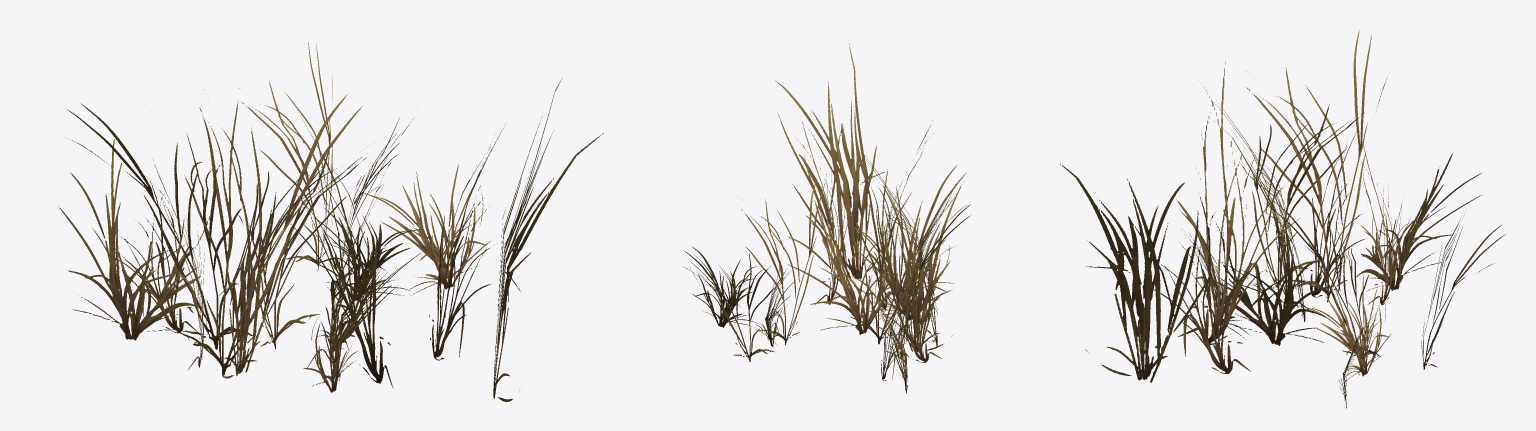
Rendered from grass_patch_1.glb.
3 renders of one model, left to right at view 1: azimuth 30°, elevation 25°; view 2: azimuth 150°, elevation 25°; view 3: azimuth 270°, elevation 25°, orthographic. The views are drawn at different scales.
Parts seen in each view (by area): view 1: grasspatch2_grass1_0; view 2: grasspatch2_grass1_0; view 3: grasspatch2_grass1_0.
Part boxes in pixels (bbox=[...]): grasspatch2_grass1_0: bbox=[58, 41, 603, 401]; grasspatch2_grass1_0: bbox=[684, 43, 970, 393]; grasspatch2_grass1_0: bbox=[1060, 30, 1505, 408].
Bounding box in the file's own units: 0.562 × 0.42 × 0.5935.
Materials: 1 (1 with a texture image).
